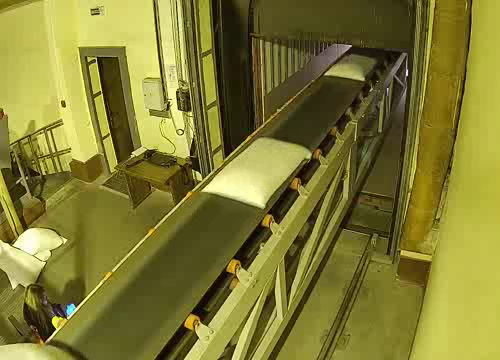bag: (195, 132, 321, 213), (321, 51, 385, 84), (0, 338, 73, 360)
